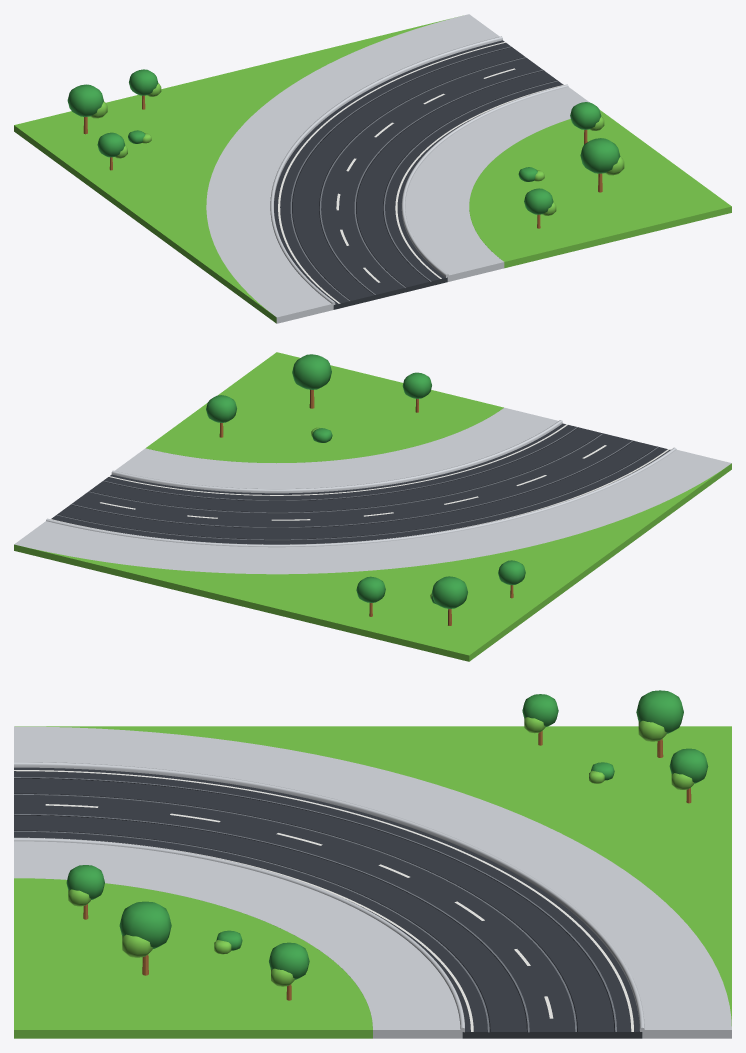
Rendered from bonde_rua_curva.glb.
3 views of the same model, one above another, from view 1: azimuth 30°, elevation 25°; view 2: azimuth 150°, elevation 25°; view 3: azimuth 270°, elevation 25° (orthographic). The views are drawn at different scales.
Parts seen in each view (by area): view 1: bonde_rua_curva; view 2: bonde_rua_curva; view 3: bonde_rua_curva.
Part boxes in pixels (x1=…): bonde_rua_curva: x1=14, y1=14, x2=731, y2=323; bonde_rua_curva: x1=14, y1=352, x2=731, y2=661; bonde_rua_curva: x1=14, y1=690, x2=731, y2=1038.
Size of the model in its own units: 30 by 3.56 by 30.
1 material, 1 textured.
